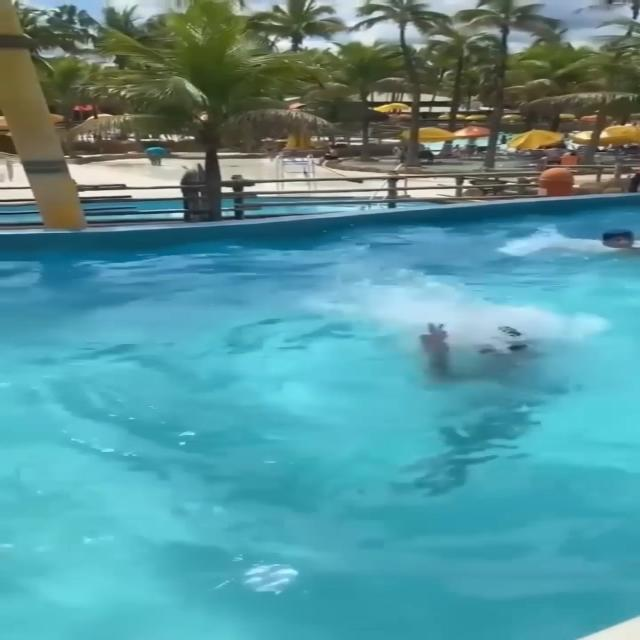Drowning: (382, 283, 578, 478)
